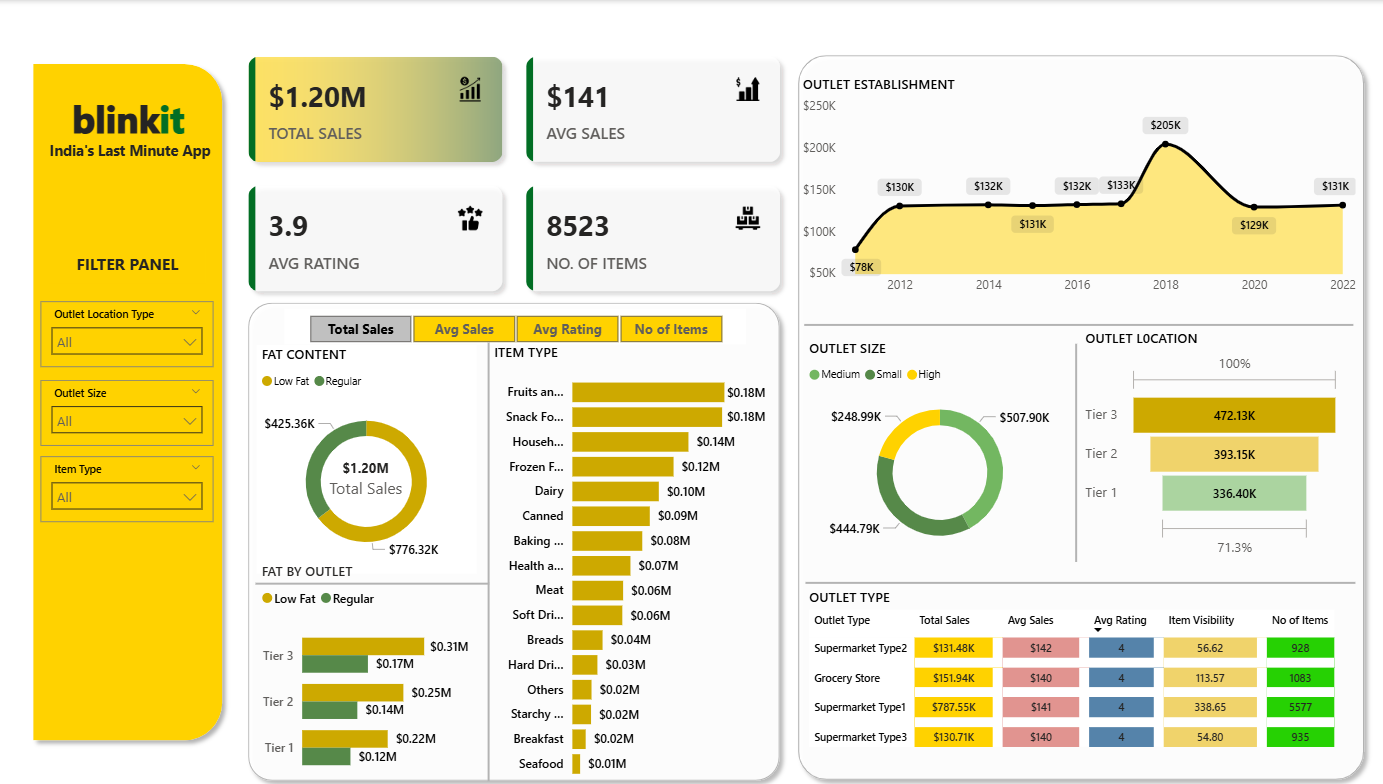

What the dashboard file says about the page in this screenshot:
{"tool":"powerbi","page":{"name":"Page 1","canvas":[1400,800],"ordinal":0},"visuals":[{"type":"shape","box":[27,55.5,208.6,700],"z":0},{"type":"textbox","box":[51,90.1,162.1,72],"z":1000},{"type":"textbox","box":[45,136.6,175.6,52.5],"z":2000},{"type":"cardVisual","fields":{"Data":["BlinkIT Grocery Data.Total Sales","BlinkIT Grocery Data.Avg Sales","BlinkIT Grocery Data.Avg Rating","BlinkIT Grocery Data.No of Items"]},"box":[235.6,40.5,570.3,270.2],"z":3000},{"type":"shape","box":[243.1,295.7,553.8,500],"z":4000},{"type":"donutChart","title":"FAT CONTENT","fields":{"Y":["BlinkIT Grocery Data.Total Sales"],"Category":["BlinkIT Grocery Data.Item Fat Content"]},"box":[260.7,347.2,221.3,230.2],"z":5000},{"type":"slicer","fields":{"Values":["METRICS.METRICS"]},"box":[288.2,310.7,465.3,36],"z":6000},{"type":"cardVisual","fields":{"Data":["BlinkIT Grocery Data.Total Sales"]},"box":[316.7,445.8,109.6,61.5],"z":7000},{"type":"clusteredBarChart","title":"FAT BY OUTLET ","fields":{"Y":["BlinkIT Grocery Data.Total Sales"],"Category":["BlinkIT Grocery Data.Outlet Location Type"],"Series":["BlinkIT Grocery Data.Item Fat Content"]},"box":[260.7,566,218.8,231.5],"z":8000},{"type":"shape","box":[259.6,546.3,235.6,85.5],"z":9000},{"type":"shape","box":[376.7,345.2,235.6,442.8],"z":10000},{"type":"barChart","title":"ITEM TYPE","fields":{"Y":["BlinkIT Grocery Data.Total Sales"],"Category":["BlinkIT Grocery Data.Item Type"]},"box":[495.3,345.2,283.7,450.3],"z":11000},{"type":"shape","box":[797.1,47.1,588.6,748.6],"z":12000},{"type":"lineChart","title":"OUTLET ESTABLISHMENT","fields":{"Y":["BlinkIT Grocery Data.Total Sales"],"Category":["BlinkIT Grocery Data.Outlet Establishment Year"]},"box":[806,75,567.3,230],"z":13000},{"type":"shape","box":[813.5,285.2,553.8,85.5],"z":14000},{"type":"donutChart","title":"OUTLET SIZE","fields":{"Category":["BlinkIT Grocery Data.Outlet Size","BlinkIT Grocery Data.Item Fat Content"],"Y":["BlinkIT Grocery Data.Total Sales"]},"box":[813,342,274,225],"z":15000},{"type":"shape","box":[968.6,347.1,235.7,220],"z":16000},{"type":"funnel","title":"OUTLET L0CATION","fields":{"Y":["Sum(BlinkIT Grocery Data.Sales)"],"Category":["BlinkIT Grocery Data.Outlet Location Type"]},"box":[1091.4,331.4,267.1,235.7],"z":17000},{"type":"shape","box":[814,545.6,554.5,83.9],"z":18000},{"type":"pivotTable","title":"OUTLET TYPE","fields":{"Rows":["BlinkIT Grocery Data.Outlet Type"],"Values":["BlinkIT Grocery Data.Total Sales","BlinkIT Grocery Data.Avg Sales","BlinkIT Grocery Data.Avg Rating","Sum(BlinkIT Grocery Data.Item Visibility)","BlinkIT Grocery Data.No of Items"]},"box":[812.7,592.7,554.5,194.6],"z":19000},{"type":"slicer","fields":{"Values":["BlinkIT Grocery Data.Outlet Location Type"]},"box":[43.2,304,174.2,66.1],"z":19001},{"type":"slicer","fields":{"Values":["BlinkIT Grocery Data.Outlet Size"]},"box":[43.2,382.8,174.2,66.1],"z":19002},{"type":"slicer","fields":{"Values":["BlinkIT Grocery Data.Item Type"]},"box":[43.2,460.4,174.2,66.1],"z":19003},{"type":"textbox","box":[52.1,249.3,157.7,35.6],"z":19004}]}

Visuals, with their boxes in screenshot pixels (x1, y1, x2, y2), scaled from the page's 1400x800 canvas onto the 1383x784 screenshot:
shape: region(27, 54, 233, 740)
textbox: region(50, 88, 211, 159)
textbox: region(44, 134, 218, 185)
cardVisual - BlinkIT Grocery Data.Total Sales x BlinkIT Grocery Data.Avg Sales: region(233, 40, 796, 304)
shape: region(240, 290, 787, 780)
"FAT CONTENT" donutChart: region(258, 340, 476, 566)
slicer - METRICS.METRICS: region(285, 304, 744, 340)
cardVisual - BlinkIT Grocery Data.Total Sales: region(313, 437, 421, 497)
"FAT BY OUTLET " clusteredBarChart: region(258, 555, 474, 782)
shape: region(256, 535, 489, 619)
shape: region(372, 338, 605, 772)
"ITEM TYPE" barChart: region(489, 338, 770, 780)
shape: region(787, 46, 1369, 780)
"OUTLET ESTABLISHMENT" lineChart: region(796, 74, 1357, 299)
shape: region(804, 279, 1351, 363)
"OUTLET SIZE" donutChart: region(803, 335, 1074, 556)
shape: region(957, 340, 1190, 556)
"OUTLET L0CATION" funnel: region(1078, 325, 1342, 556)
shape: region(804, 535, 1352, 617)
"OUTLET TYPE" pivotTable: region(803, 581, 1351, 772)
slicer - BlinkIT Grocery Data.Outlet Location Type: region(43, 298, 215, 363)
slicer - BlinkIT Grocery Data.Outlet Size: region(43, 375, 215, 440)
slicer - BlinkIT Grocery Data.Item Type: region(43, 451, 215, 516)
textbox: region(51, 244, 207, 279)
